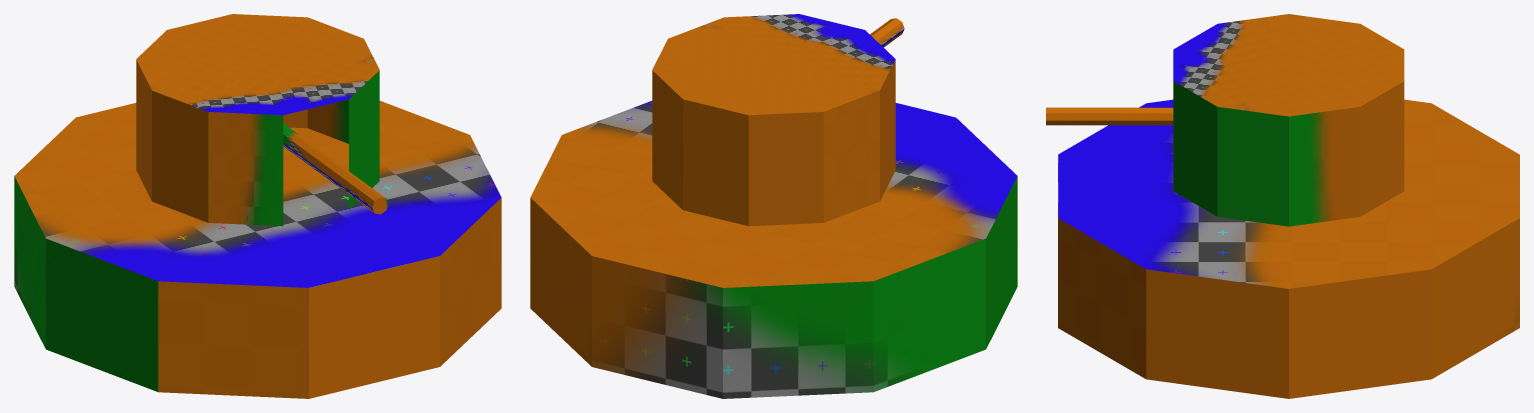
File: gun.obj
3 renders of one model, left to right at view 1: azimuth 30°, elevation 25°; view 2: azimuth 150°, elevation 25°; view 3: azimuth 270°, elevation 25°, orthographic.
Parts seen in each view (by area): view 1: base_Circle.002, turret_Circle.003, Cylinder_Cylinder.001; view 2: base_Circle.002, turret_Circle.003, Cylinder_Cylinder.001; view 3: base_Circle.002, turret_Circle.003, Cylinder_Cylinder.001.
Part boxes in pixels (x1,y1,x2,y2): base_Circle.002: (14,101,501,398); turret_Circle.003: (136,14,379,226); Cylinder_Cylinder.001: (283,123,388,214); base_Circle.002: (530,101,1017,398); turret_Circle.003: (652,14,895,226); Cylinder_Cylinder.001: (870,18,904,47); base_Circle.002: (1058,99,1519,398); turret_Circle.003: (1173,14,1404,226); Cylinder_Cylinder.001: (1046,107,1173,125).
Size of the model in its own units: 2 by 1.05 by 1.95.
